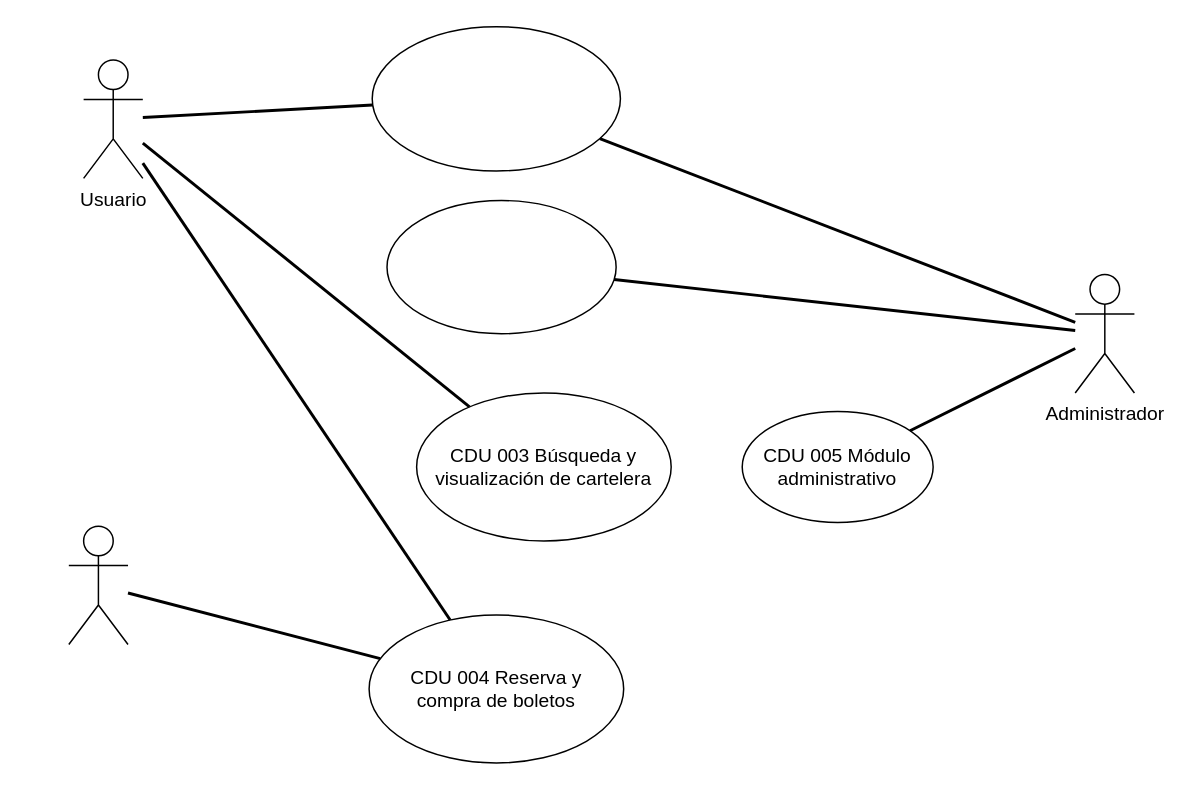
The diagram is 1190 pixels wide and 789 high, and some of its shapes have lost their labels. Each missing label, with the centre of its shape:
CDU 001 Autenticación y gestión de usuarios: point 495,98
CDU 002 Gestión de cartelera: point 501,266
Sistema de pago: point 97,585
